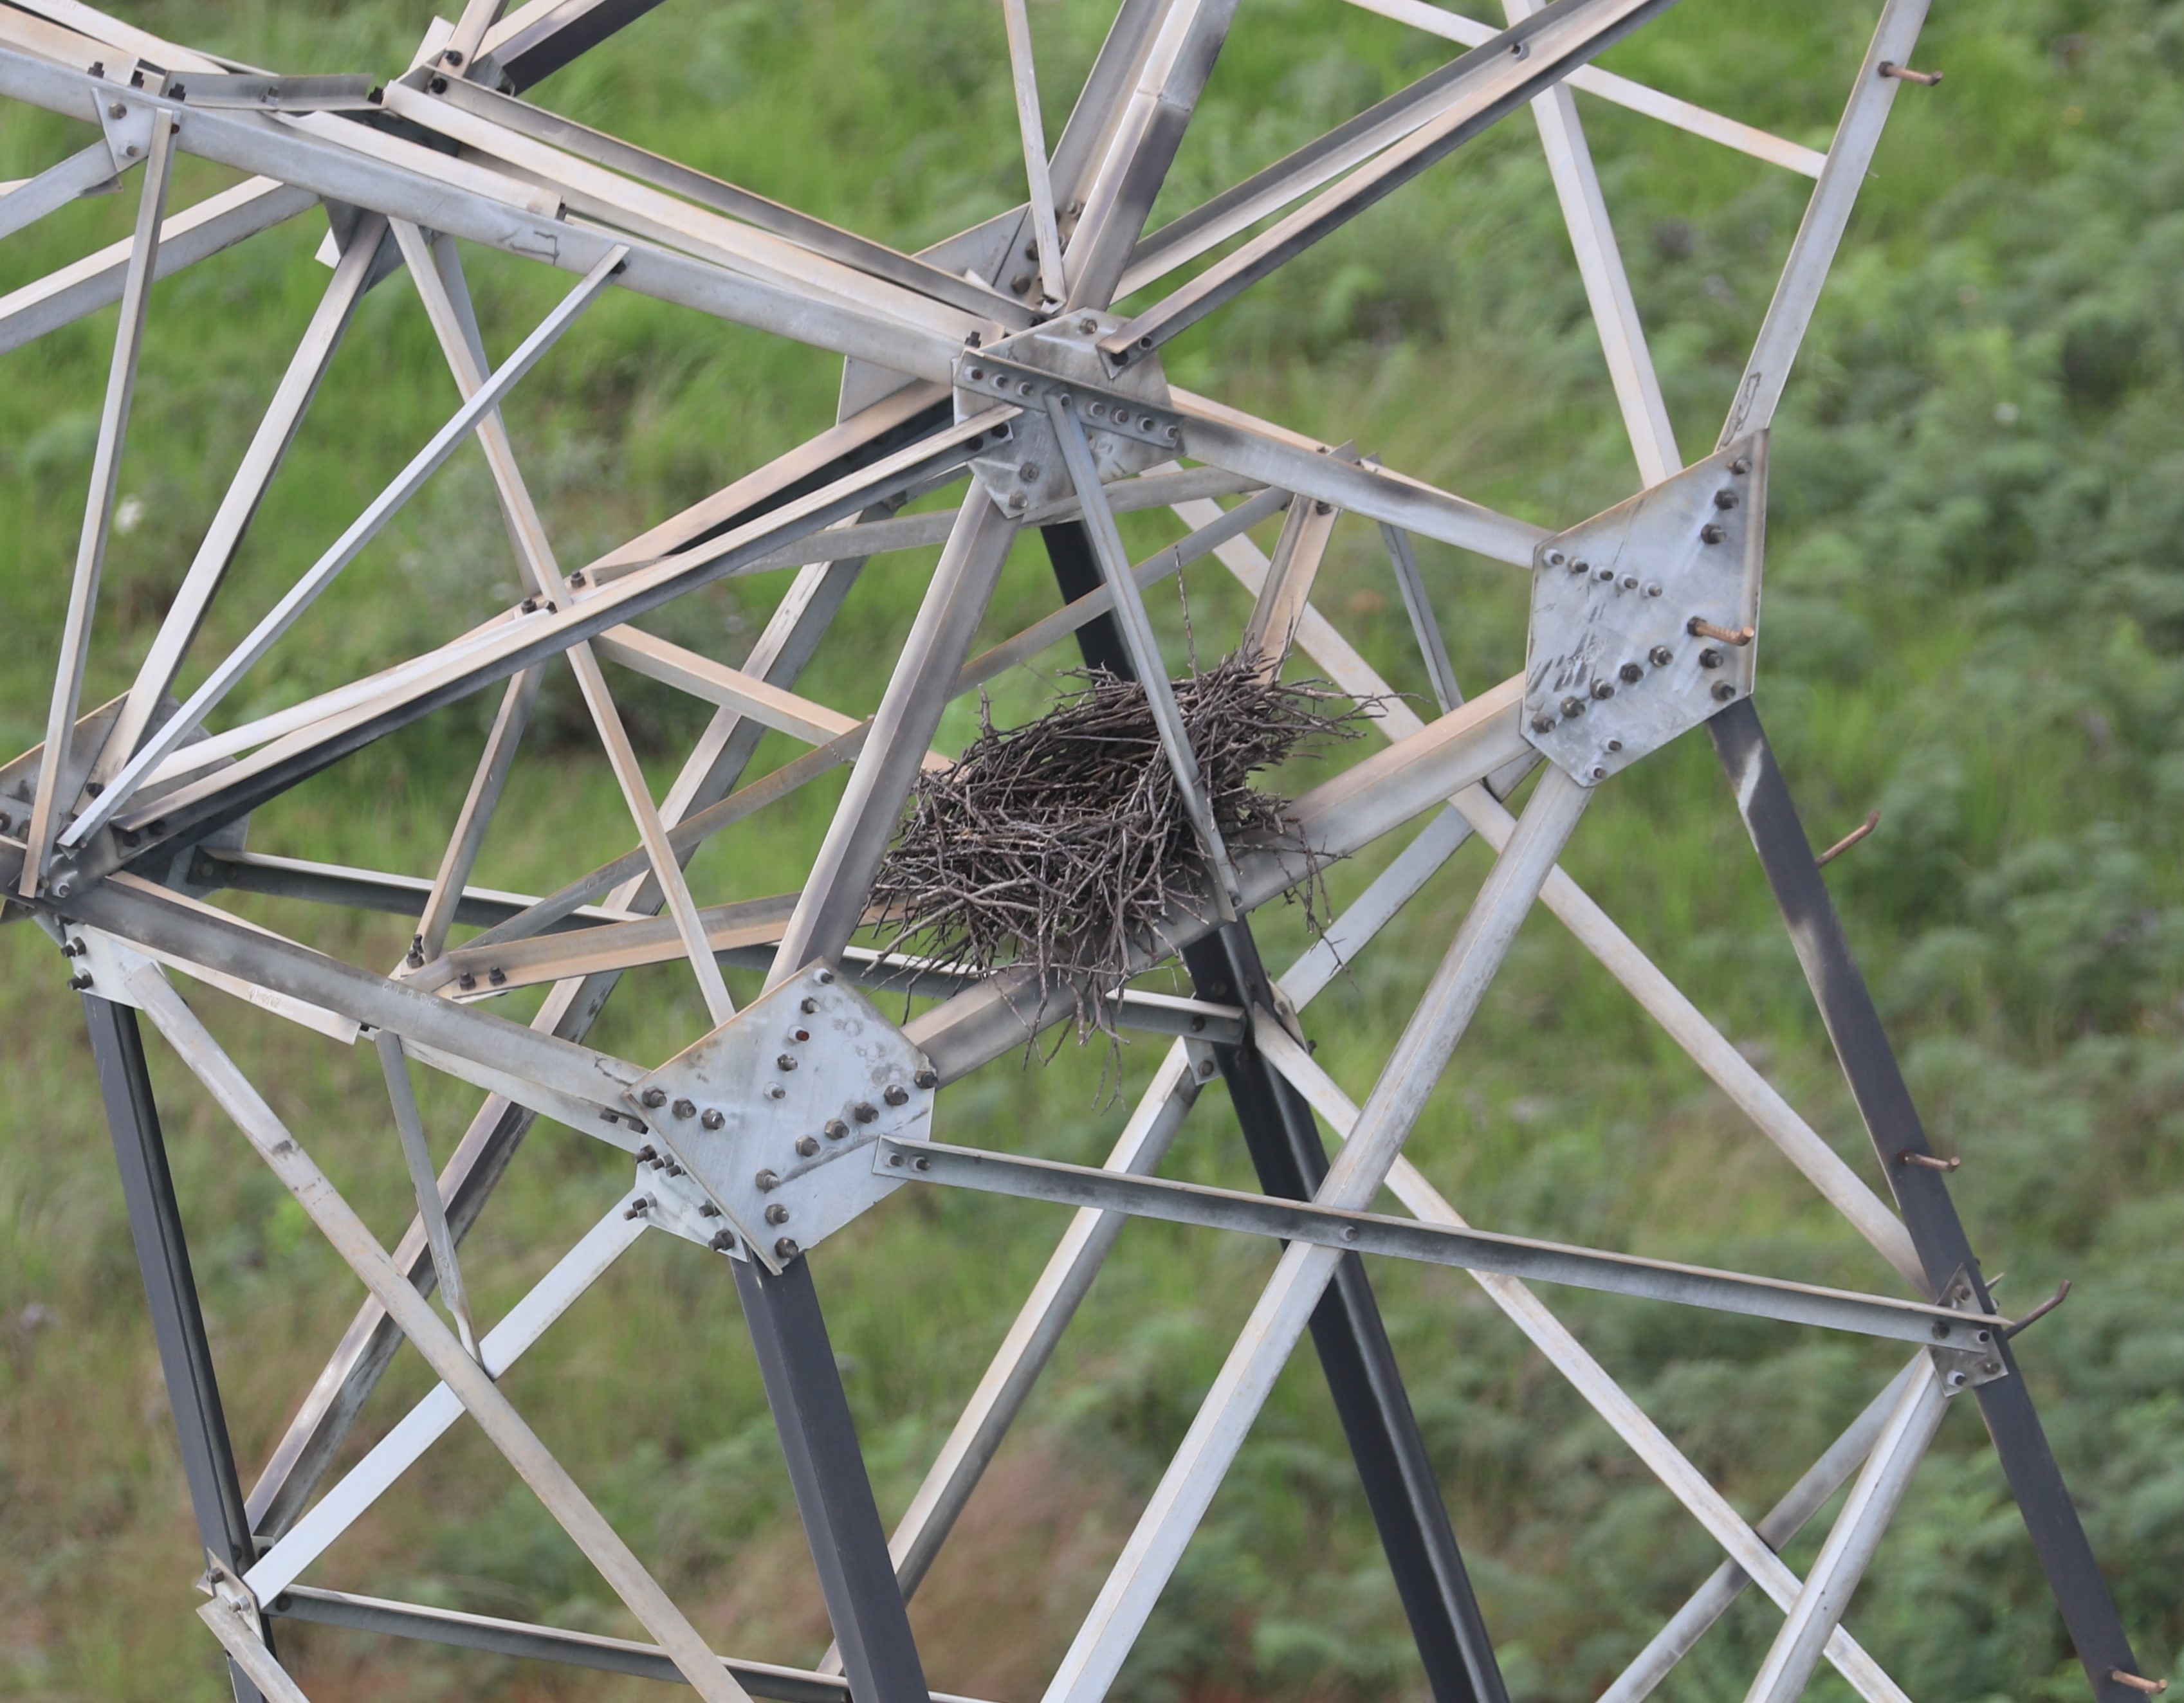niaowo: (862, 645, 1344, 1019)
